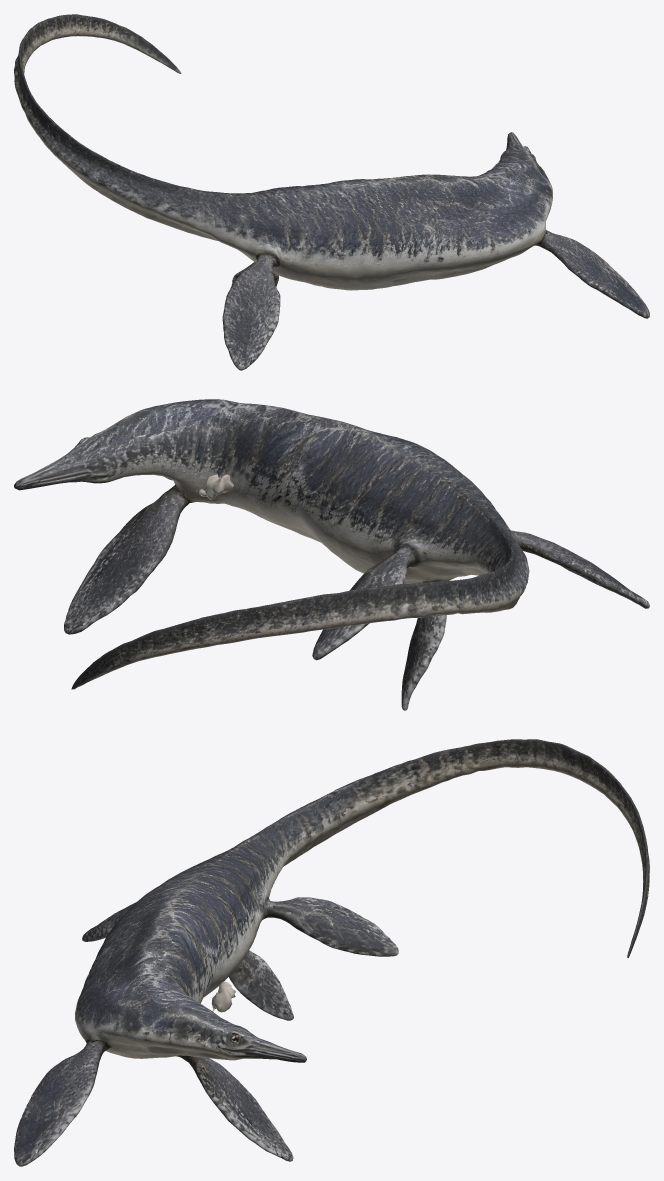
Rendered from askeptosaurus.raw.glb.
3 renders of one model, top to bottom at view 1: azimuth 30°, elevation 25°; view 2: azimuth 150°, elevation 25°; view 3: azimuth 270°, elevation 25°, orthographic. The views are drawn at different scales.
Visible parts, largest first — view 1: tripo_node_93520fae-b1e1-4356-a4e1-46f978243502; view 2: tripo_node_93520fae-b1e1-4356-a4e1-46f978243502; view 3: tripo_node_93520fae-b1e1-4356-a4e1-46f978243502.
Boxes of the visible parts, x1,y1,x2,y2 form: tripo_node_93520fae-b1e1-4356-a4e1-46f978243502: (14, 14, 649, 370); tripo_node_93520fae-b1e1-4356-a4e1-46f978243502: (14, 399, 649, 710); tripo_node_93520fae-b1e1-4356-a4e1-46f978243502: (14, 739, 649, 1166).
Size of the model in its own units: 0.8599 by 0.3999 by 1.
Materials: 1 (1 with a texture image).
